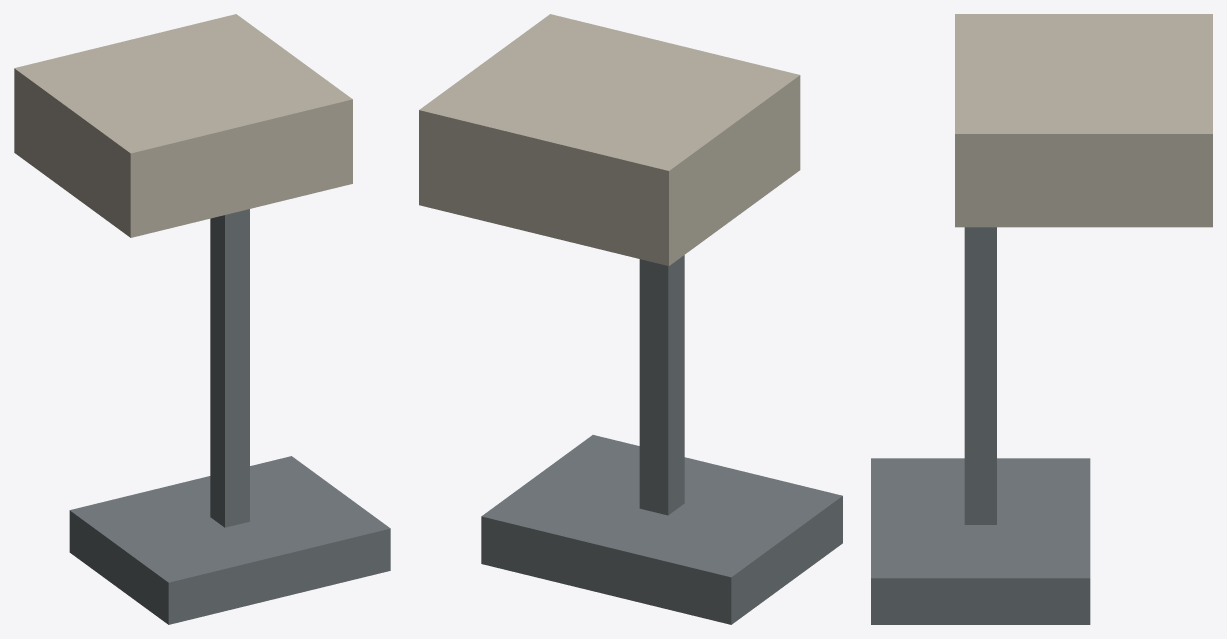
Rendered from desk_lamp.glb.
The picture shows the model from 3 angles, left to right: view 1: azimuth 30°, elevation 25°; view 2: azimuth 150°, elevation 25°; view 3: azimuth 270°, elevation 25°; orthographic projection. The views are drawn at different scales.
Visible parts, largest first — view 1: body; view 2: body; view 3: body.
Boxes of the visible parts, bbox=[...] form: body: bbox=[14, 14, 390, 624]; body: bbox=[419, 14, 842, 624]; body: bbox=[871, 14, 1212, 624].
Bounding box in the file's own units: 0.22 × 0.42 × 0.265.
